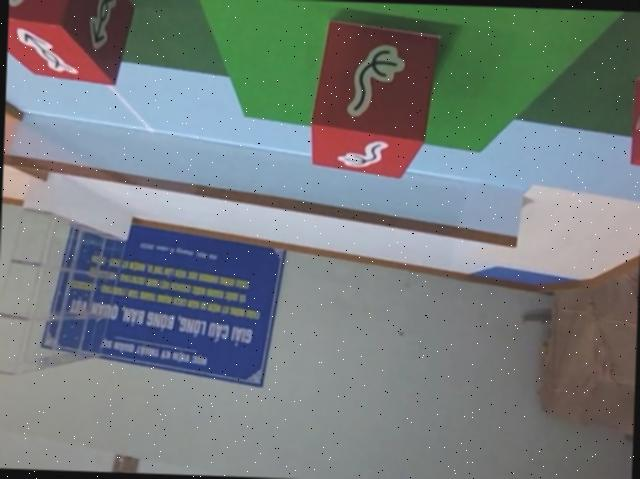R1: (631, 50, 640, 167)
R2 Real: (309, 17, 439, 179), (5, 0, 134, 85)
